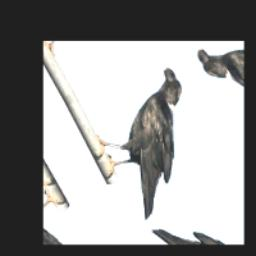Crow: (73, 63, 231, 228)
